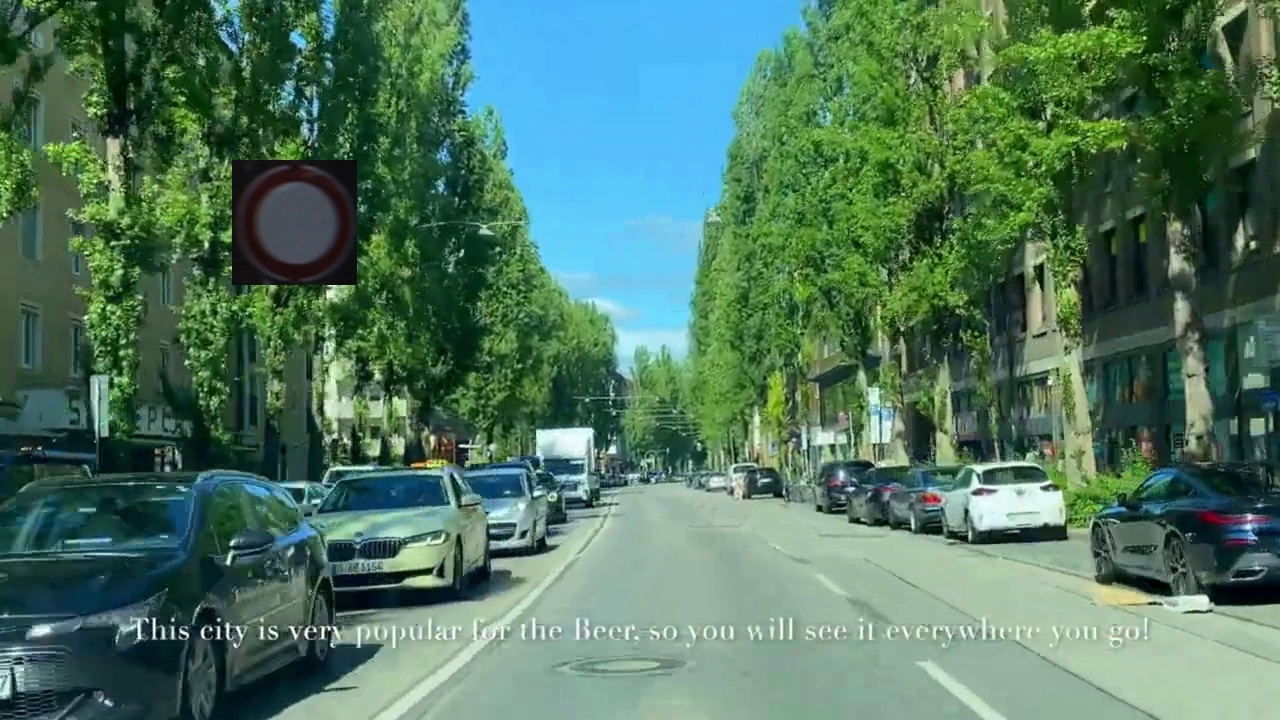No vehicles: (232, 160, 357, 285)
